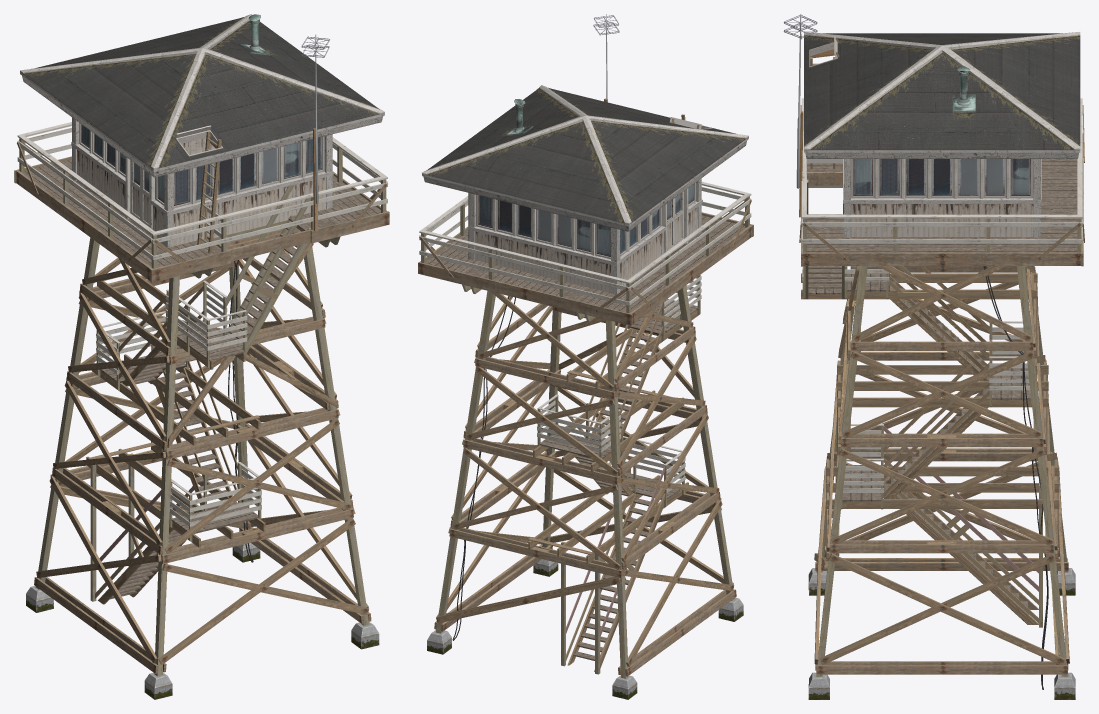
Rendered from lookout-tower.fbx.
The picture shows the model from 3 angles, left to right: view 1: azimuth 30°, elevation 25°; view 2: azimuth 150°, elevation 25°; view 3: azimuth 270°, elevation 25°; orthographic projection. The views are drawn at different scales.
Visible parts, largest first — view 1: tower; view 2: tower; view 3: tower, pipe.
Boxes of the visible parts, x1,y1,x2,y2 form: tower: (14,14,389,699); tower: (418,14,753,699); tower: (783,14,1084,699); pipe: (952,66,975,112).
Size of the model in its own units: 696 by 1750 by 737.
